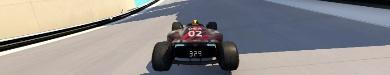Car: (150, 20, 239, 70)
curve: (0, 0, 389, 74)
obstacles-Borders: (0, 0, 167, 56)
